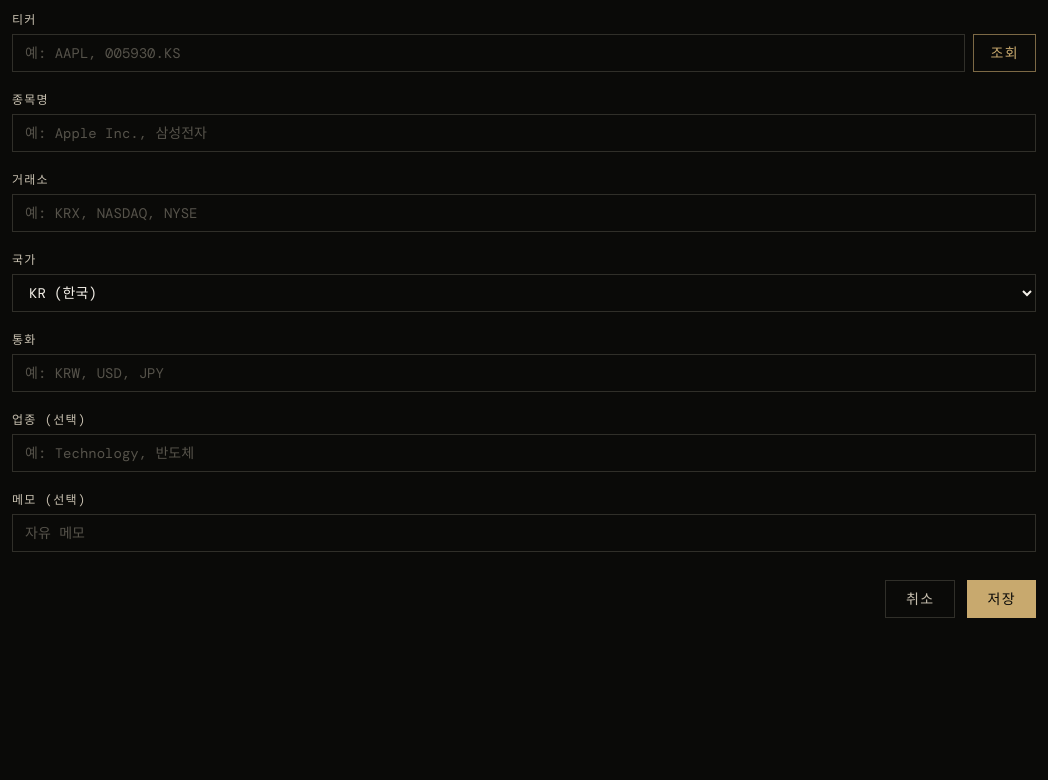
StockForm › FE-23: [조회] 중 → 조회 버튼 disabled
Type "AAPL" into the field labelled "티커". click: (489, 53)
box: [12,34,965,72]
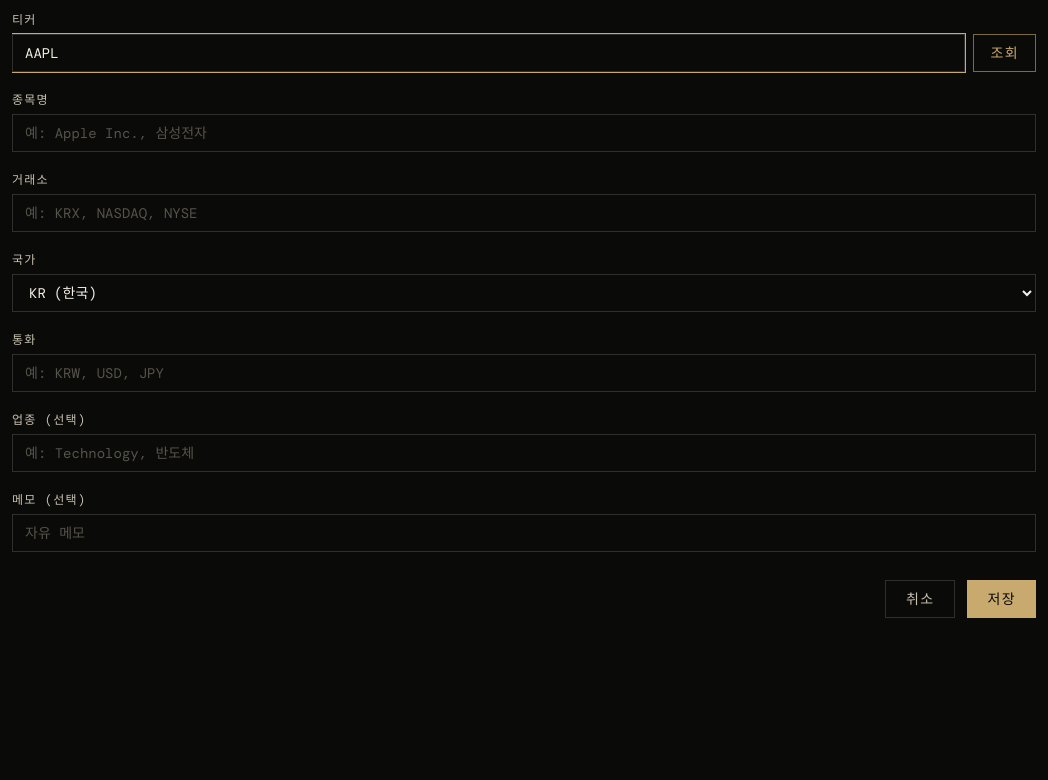
Click the button "조회". click: (1005, 53)
box: [973,34,1036,72]
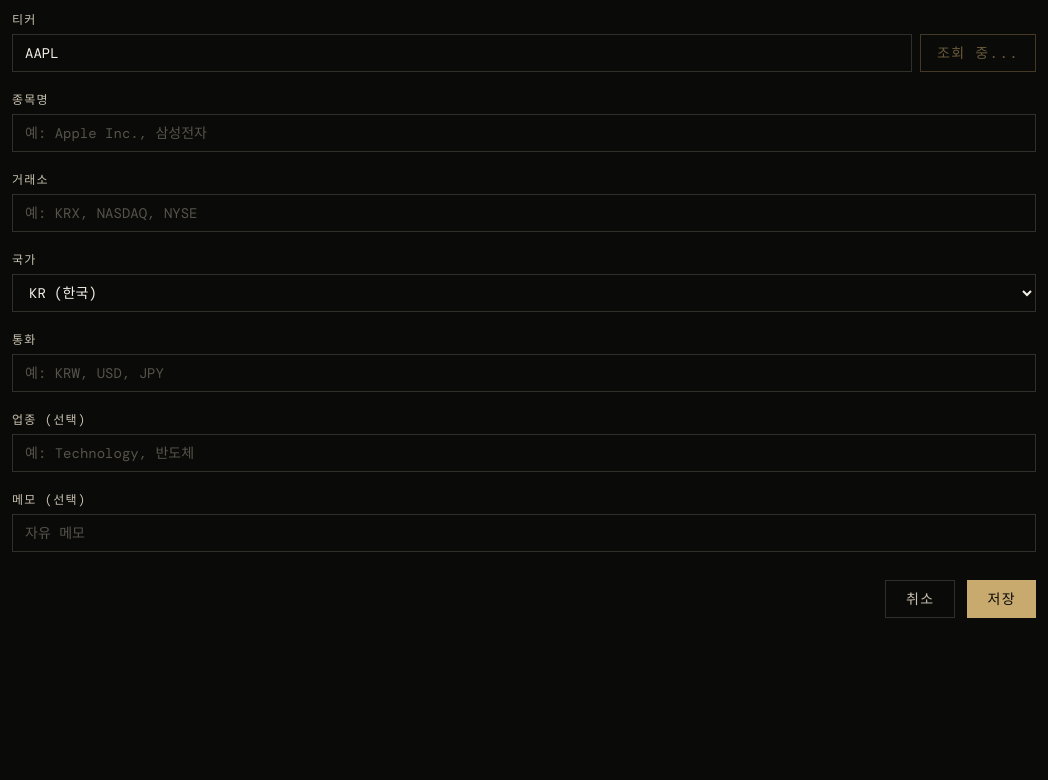
Check: the button "조회 중..." is disabled, box [920,34,1036,72]
